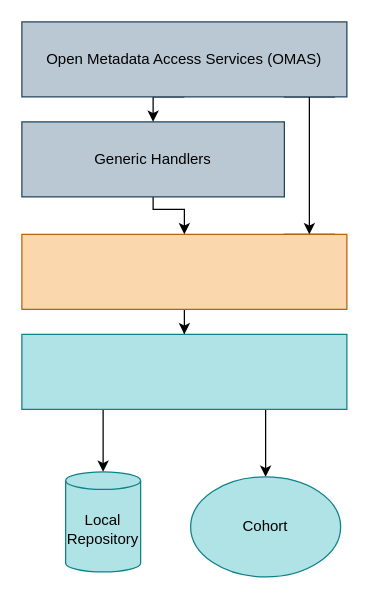
Image size: 369x599. Some labels were removed from this diagram. Each missing label, with the centre of its shape:
"Enterprise Repository Connector" belongs at pixel 184 371.
"Repository Handler" belongs at pixel 184 271.
